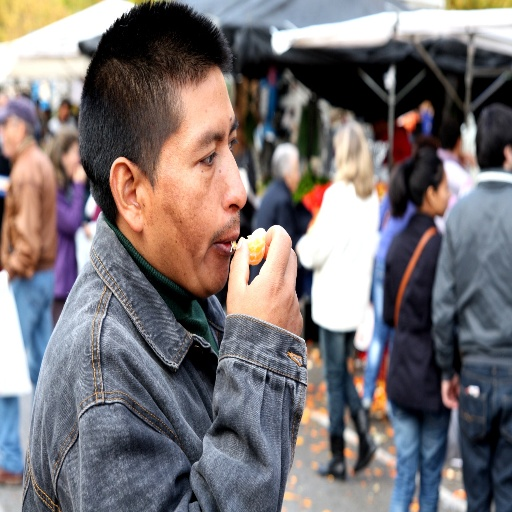hand: (227, 227, 305, 348), (441, 374, 461, 410), (71, 163, 88, 184)
